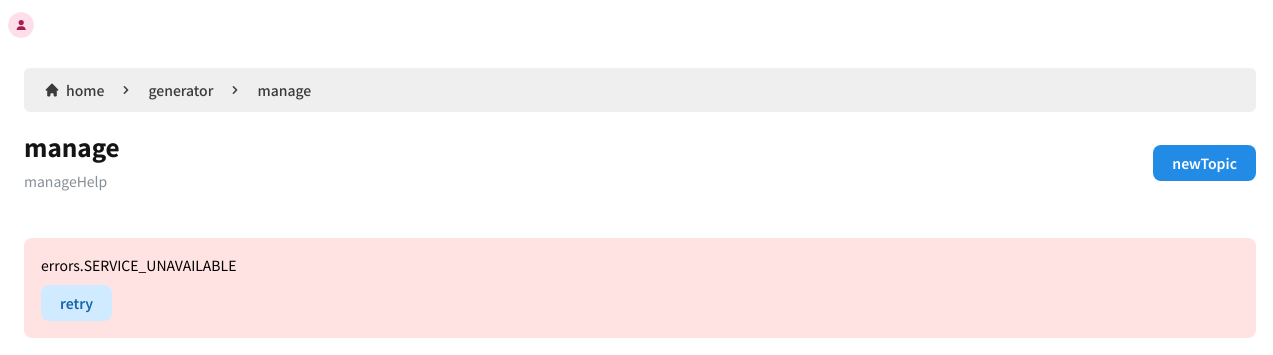
Scenario: 作成したお題・集計の専用ページ › エラー時は再読込でき、空の一覧も案内する
Check: the text "errors.SERVICE_UNAVAILABLE" is shown, box [41,255,236,275]
Click the button "retry". click: (77, 303)
box: [41,285,112,321]
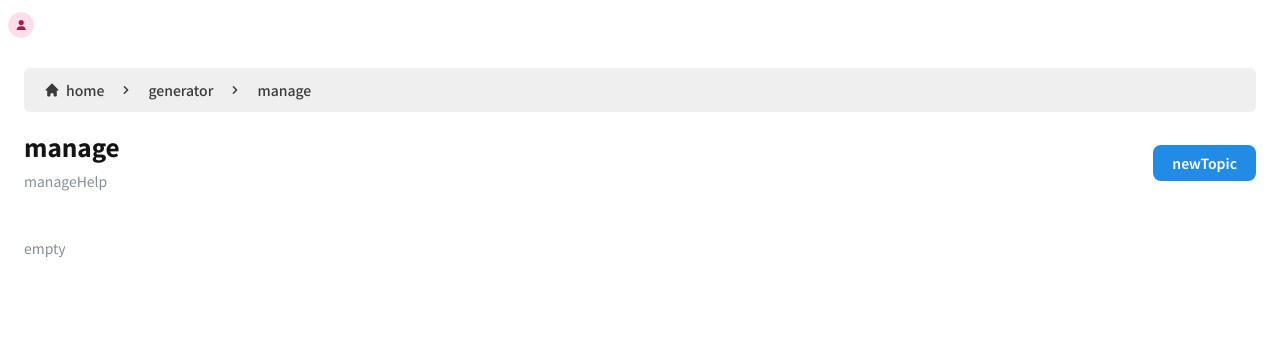
Check: the text "empty" is shown, box [24,238,66,258]
